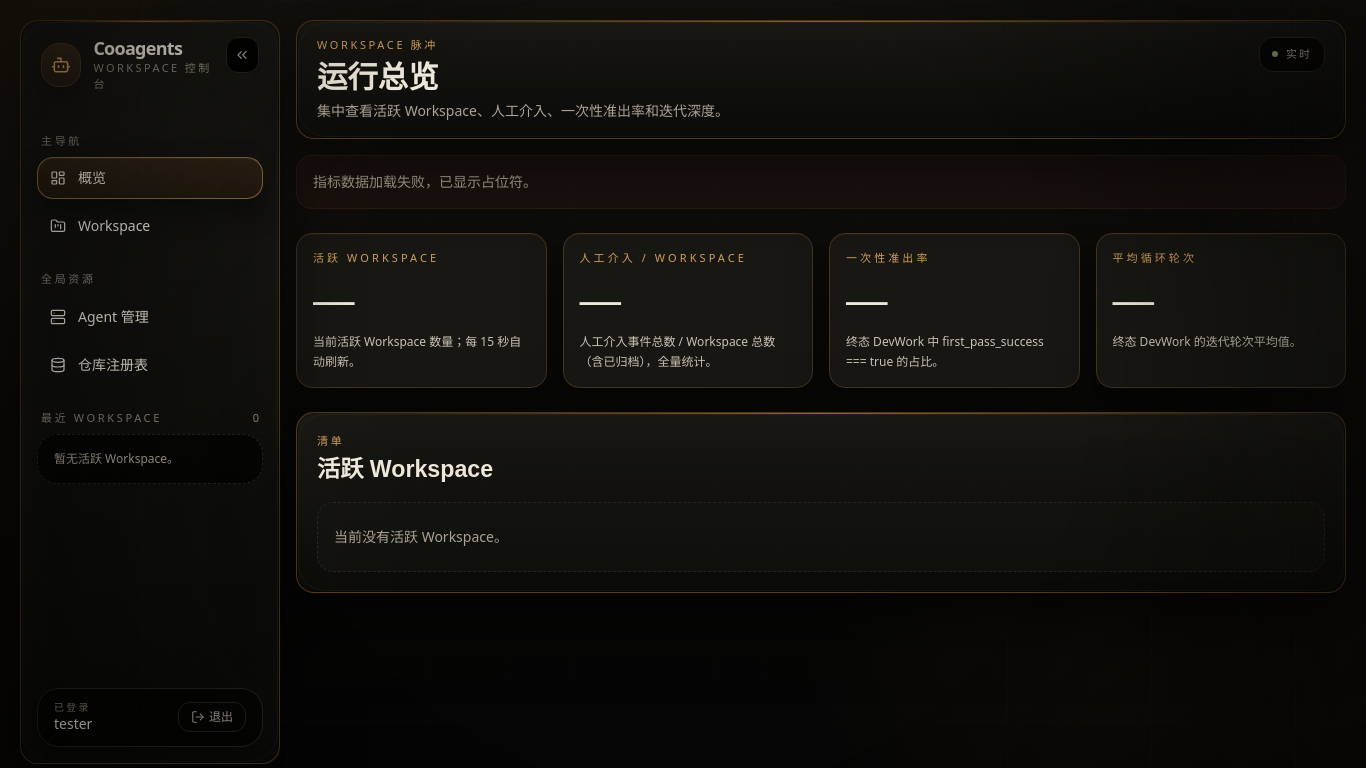
Test: App shell › collapses and expands the desktop sidebar
expect the text "Cooagents" is shown: met, box [93,36,182,60]
expect the element that starts with "Cooagents" is shown: met, box [20,20,280,764]
Click the button named "折叠侧栏".
click(242, 55)  # box [226,37,259,73]
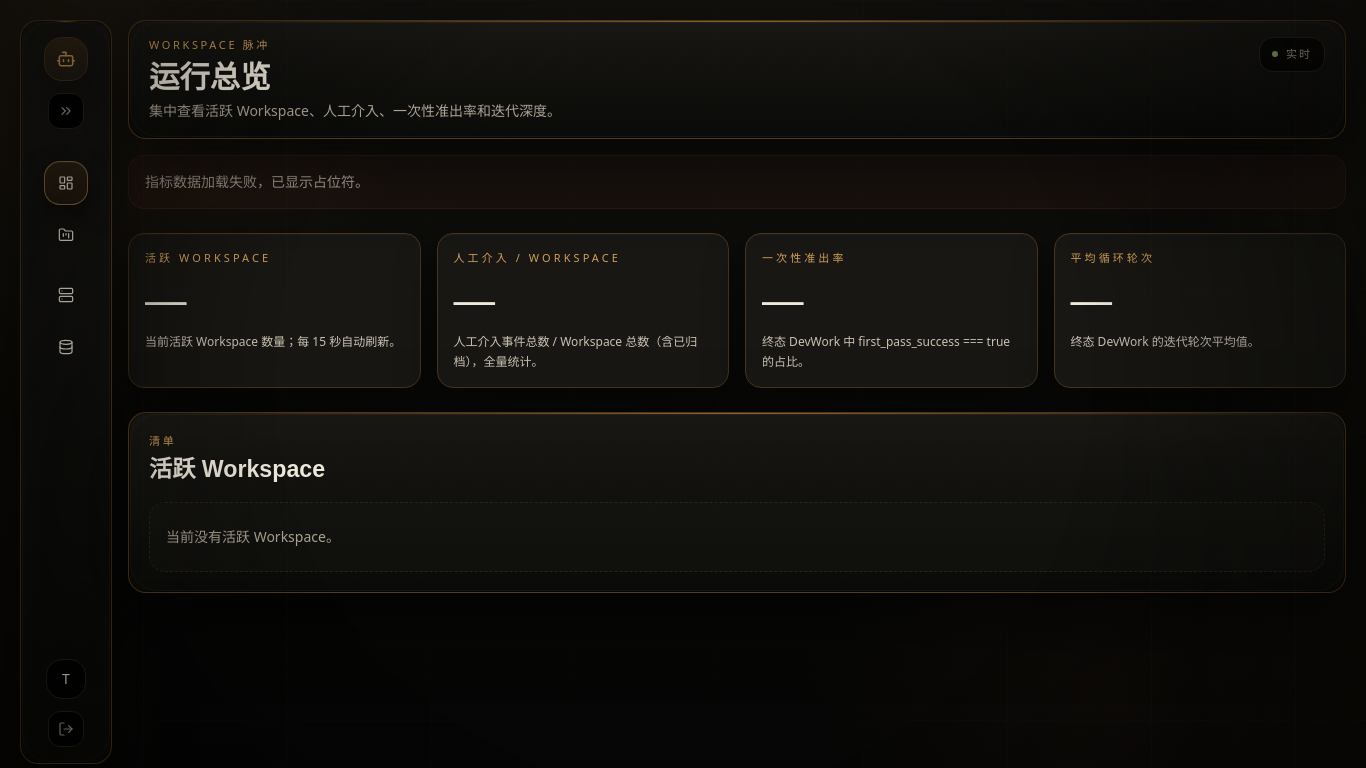
expect the link named "概览" is shown: met, box [44,161,88,205]
expect the button named "展开侧栏" is shown: met, box [48,93,84,129]
expect the text "主导航" is gone: met
